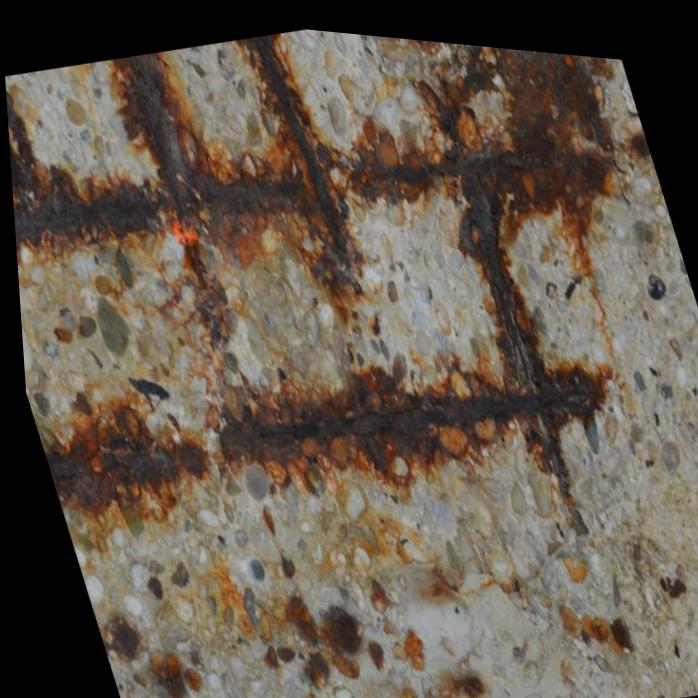damage: (4, 23, 698, 698)
